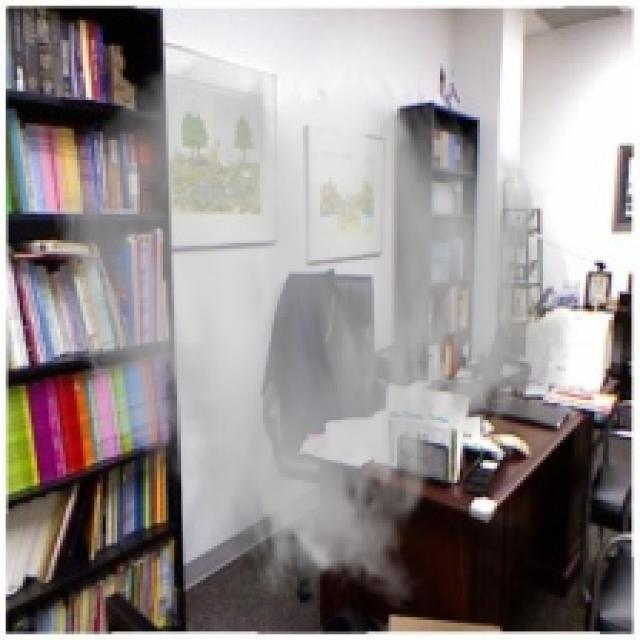Smoke: (49, 51, 578, 612)
